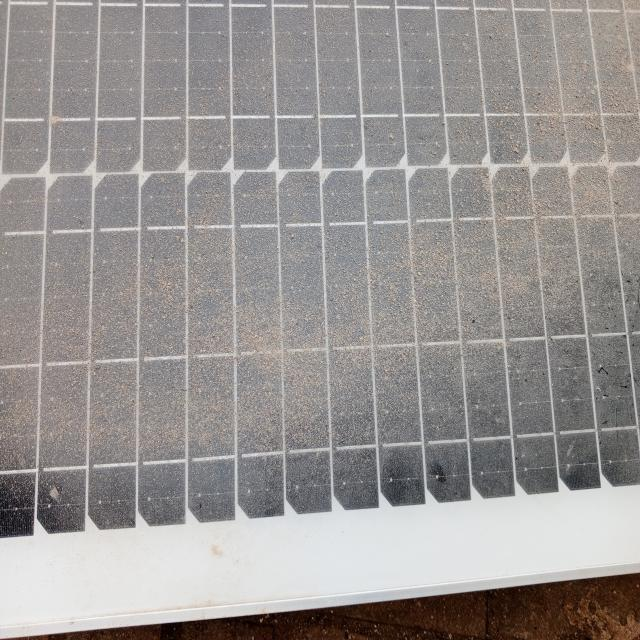Surface Contaminant: (14, 8, 639, 498)
